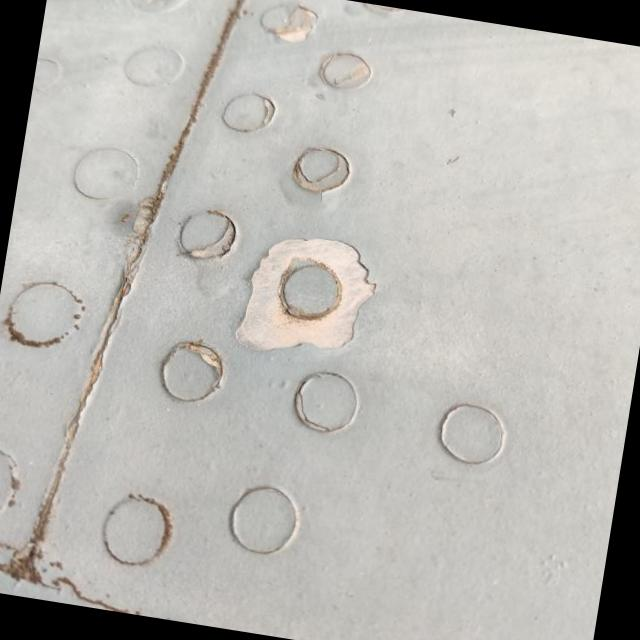Paint-off: (233, 238, 380, 354)
